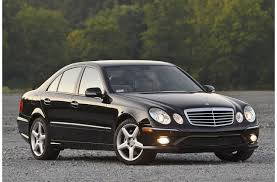car: (12, 51, 260, 168)
